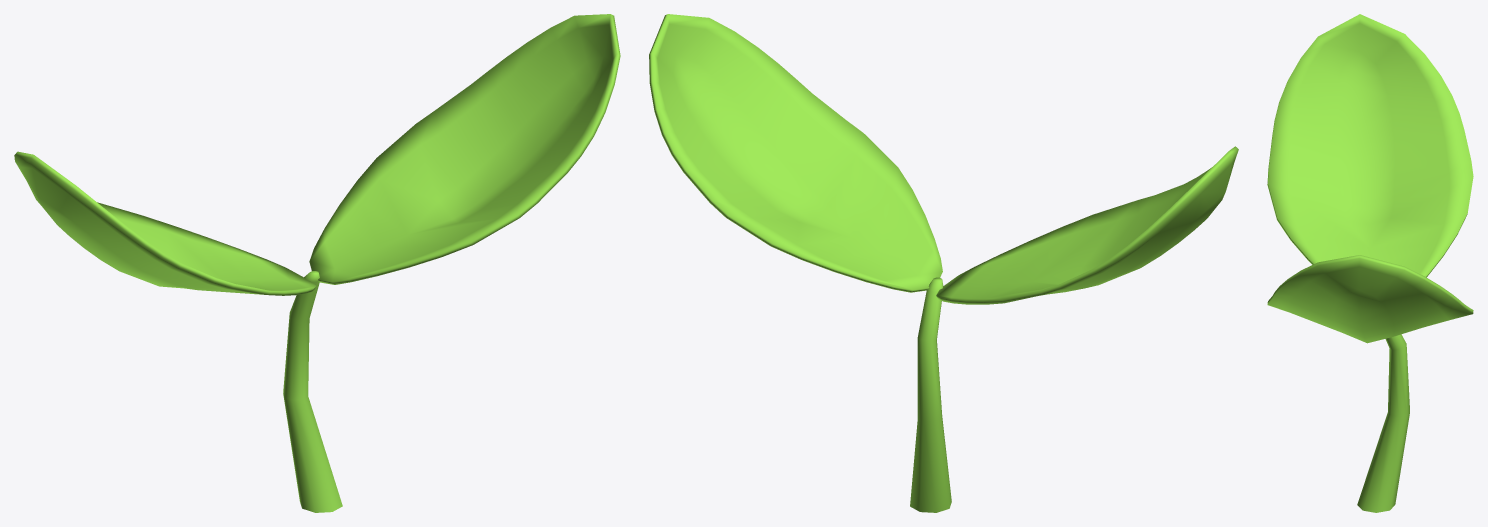
Rendered from SM_Leaf.fbx.
3 renders of one model, left to right at view 1: azimuth 30°, elevation 25°; view 2: azimuth 150°, elevation 25°; view 3: azimuth 270°, elevation 25°, orthographic. The views are drawn at different scales.
Parts seen in each view (by area): view 1: Plane; view 2: Plane; view 3: Plane.
Boxes of the visible parts, x1,y1,x2,y2 form: Plane: (14,14,620,512); Plane: (649,14,1238,512); Plane: (1267,14,1473,512).
Size of the model in its own units: 75.76 by 53.18 by 27.07.
